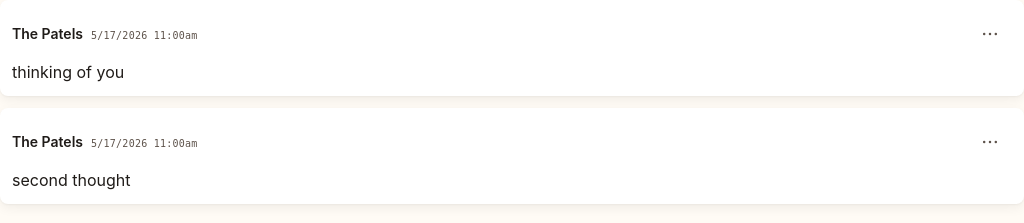
it: CommentList moderation menu › blocking one comment hides every comment by that same author in the list, not just the row clicked from
This screenshot has width=1024, height=223.
Click the 1st button named "More actions". click: (990, 34)
box: [968, 12, 1012, 56]
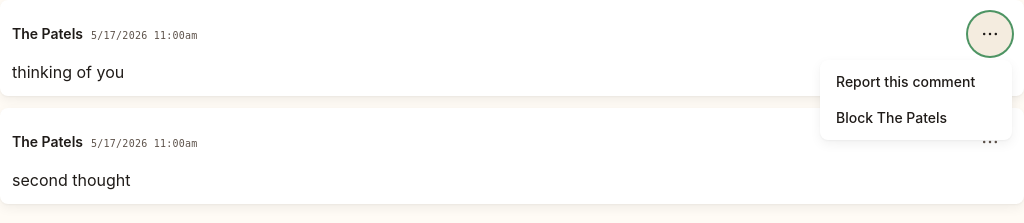
Click the menu item "Block The Patels". click: (916, 118)
box: [824, 100, 1008, 136]
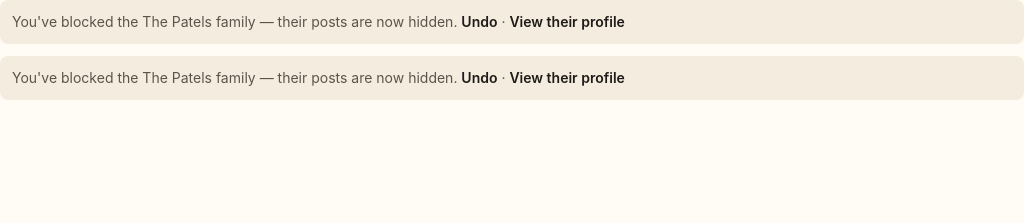
Now the text "their posts are now hidden" is shown 2 times, box [12, 13, 625, 30]; [12, 69, 625, 86]
Now the text "thinking of you" is gone
Now the text "second thought" is gone
